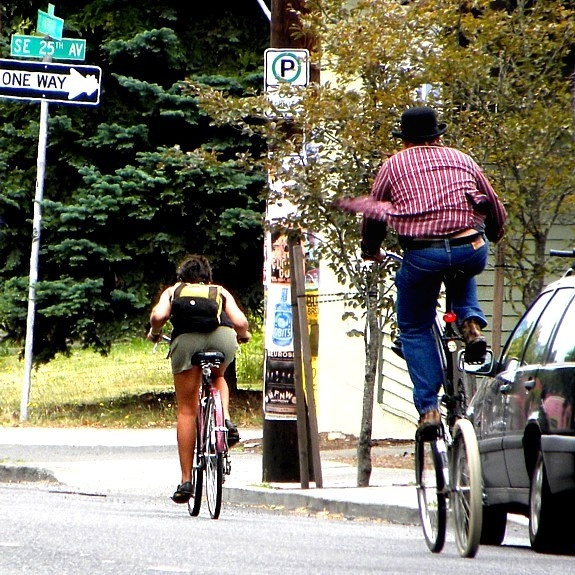non-vehicle: (411, 320, 488, 559), (185, 349, 230, 522)
